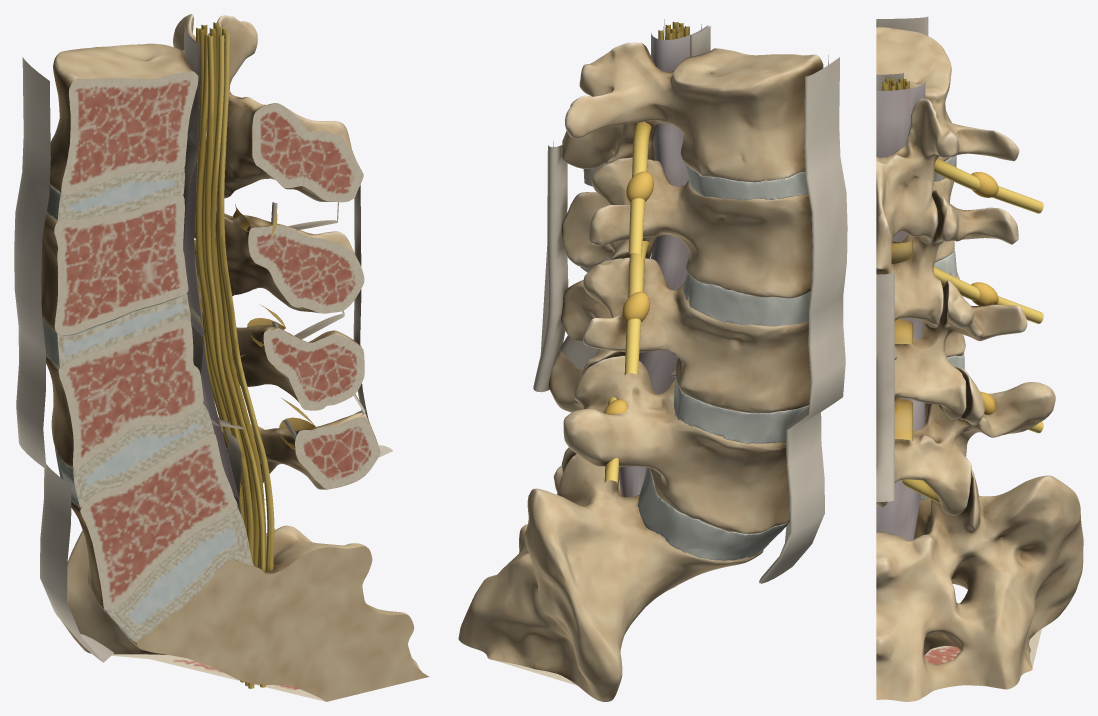
The model's file is lumbar-spine.bbc3a296.glb.
3 renders of one model, left to right at view 1: azimuth 30°, elevation 25°; view 2: azimuth 150°, elevation 25°; view 3: azimuth 270°, elevation 25°, orthographic. The views are drawn at different scales.
Visible parts, largest first — view 1: Lumbar vertebrae, Intervertebral discs, Longitudinal ligaments, Cauda equina and nerve roots, Dural sac, Interspinous and supraspinous ligaments, Ligamenta flava; view 2: Lumbar vertebrae, Longitudinal ligaments, Intervertebral discs, Dural sac, Interspinous and supraspinous ligaments, Cauda equina and nerve roots, Dorsal root ganglia; view 3: Lumbar vertebrae, Dural sac, Interspinous and supraspinous ligaments, Cauda equina and nerve roots, Ligamenta flava, Dorsal root ganglia, Longitudinal ligaments, Intervertebral discs.
Part boxes in pixels (<box>): Lumbar vertebrae: <box>41,14,429,701</box>; Intervertebral discs: <box>42,168,253,642</box>; Longitudinal ligaments: <box>14,32,244,662</box>; Cauda equina and nerve roots: <box>194,22,274,688</box>; Dural sac: <box>184,25,240,513</box>; Interspinous and supraspinous ligaments: <box>271,185,392,457</box>; Ligamenta flava: <box>233,204,315,449</box>; Lumbar vertebrae: <box>458,42,823,701</box>; Longitudinal ligaments: <box>670,24,847,583</box>; Intervertebral discs: <box>638,162,810,560</box>; Dural sac: <box>619,19,708,497</box>; Interspinous and supraspinous ligaments: <box>533,141,610,392</box>; Cauda equina and nerve roots: <box>604,21,689,484</box>; Dorsal root ganglia: <box>604,171,653,414</box>; Lumbar vertebrae: <box>876,27,1083,701</box>; Dural sac: <box>876,82,925,540</box>; Interspinous and supraspinous ligaments: <box>876,272,894,501</box>; Cauda equina and nerve roots: <box>881,78,1043,539</box>; Ligamenta flava: <box>891,240,912,440</box>; Dorsal root ganglia: <box>971,172,998,414</box>; Longitudinal ligaments: <box>876,16,928,90</box>; Intervertebral discs: <box>920,155,964,499</box>.
Size of the model in its own units: 2.33 by 3.9 by 1.36.
